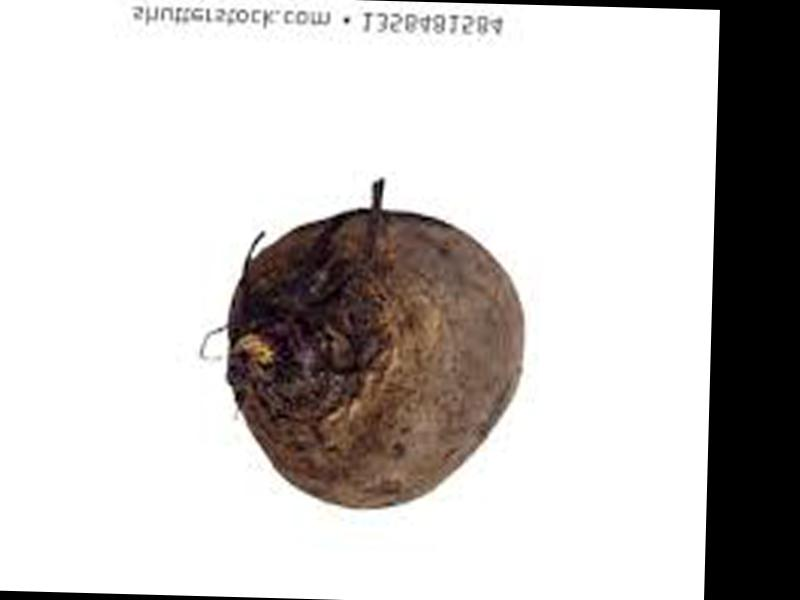Beet: (226, 207, 530, 512)
